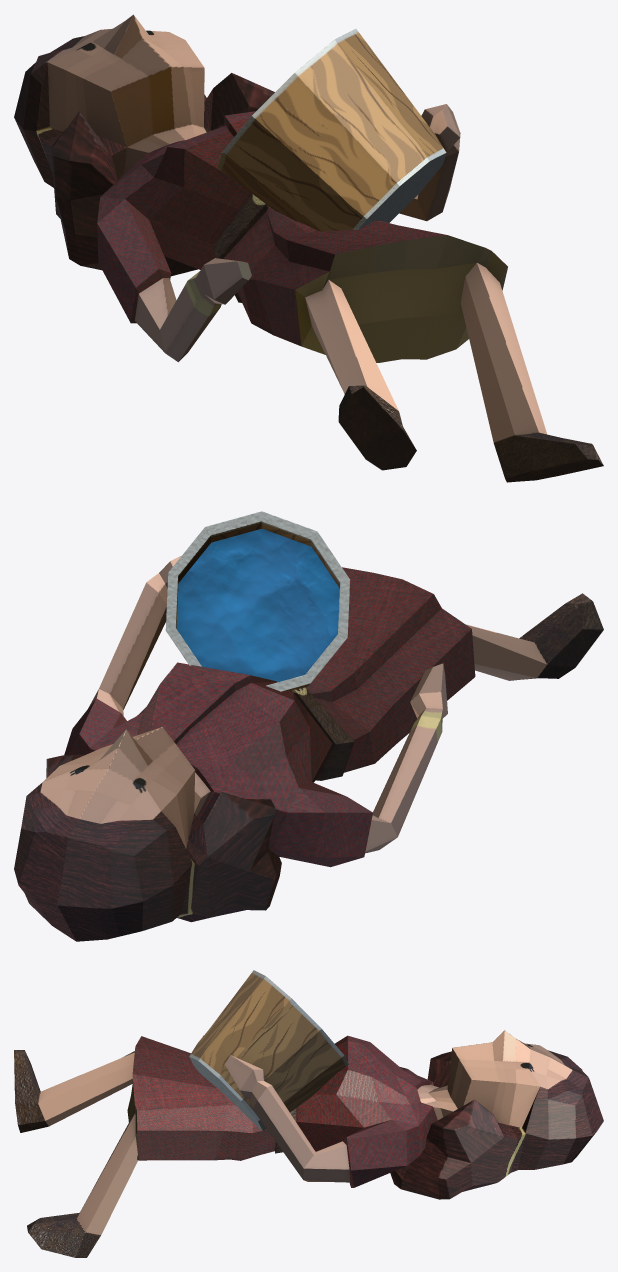
File: Walk_Aldeana_11.obj
The picture shows the model from 3 angles, top to bottom: view 1: azimuth 30°, elevation 25°; view 2: azimuth 150°, elevation 25°; view 3: azimuth 270°, elevation 25°; orthographic projection. The views are drawn at different scales.
Parts seen in each view (by area): view 1: Aldeana.001; view 2: Aldeana.001; view 3: Aldeana.001.
Part boxes in pixels (x1,y1,x2,y2): Aldeana.001: (14, 14, 603, 482); Aldeana.001: (14, 511, 603, 941); Aldeana.001: (14, 970, 603, 1257).
Bounding box in the file's own units: 1.02 × 1.13 × 2.36.
